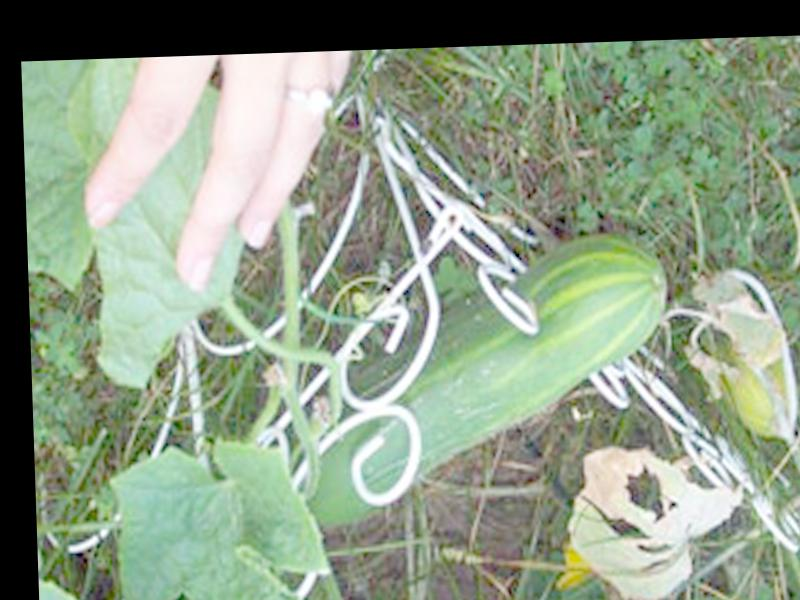Cucumber: (293, 234, 673, 528)
